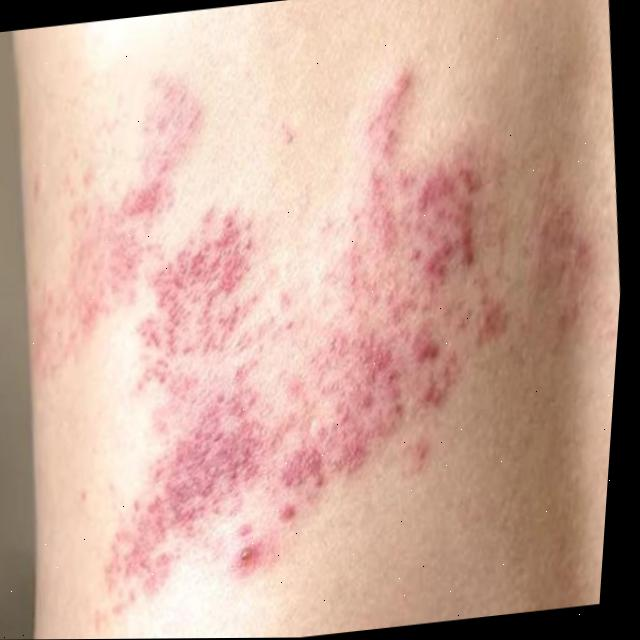Shingles: (0, 42, 554, 616)
